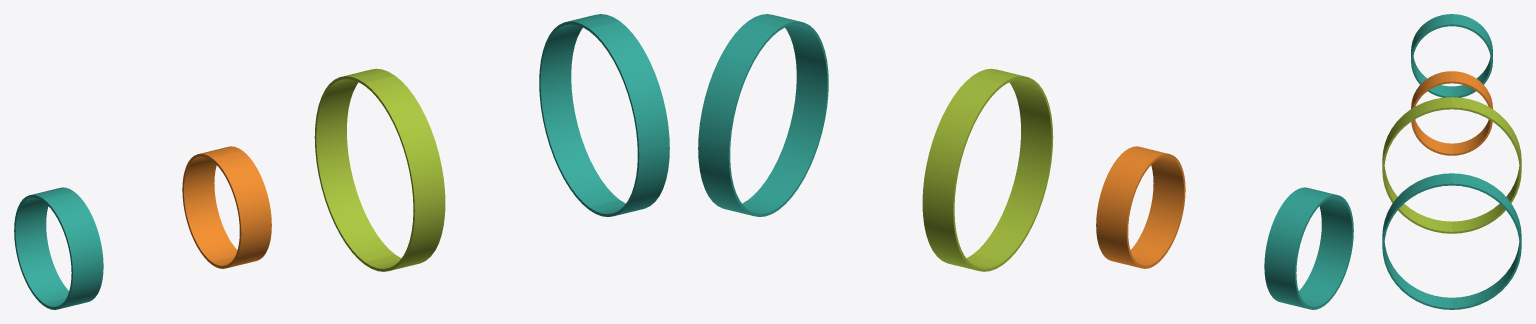
File: vibration_monitoring_system_pressure.glb
The picture shows the model from 3 angles, left to right: view 1: azimuth 30°, elevation 25°; view 2: azimuth 150°, elevation 25°; view 3: azimuth 270°, elevation 25°; orthographic projection. The views are drawn at different scales.
Visible parts, largest first — view 1: pressure__front, pressure__back; view 2: pressure__back, pressure__front; view 3: pressure__back, pressure__front.
Part boxes in pixels (left/top/right/bottom): pressure__front: left=43, top=21, right=669, bottom=309; pressure__back: left=14, top=14, right=619, bottom=305; pressure__back: left=698, top=21, right=1324, bottom=309; pressure__front: left=748, top=14, right=1353, bottom=305; pressure__back: left=1452, top=14, right=1521, bottom=309; pressure__front: left=1382, top=14, right=1451, bottom=309.
Bounding box in the file's own units: 1.13 × 0.34 × 0.34.
